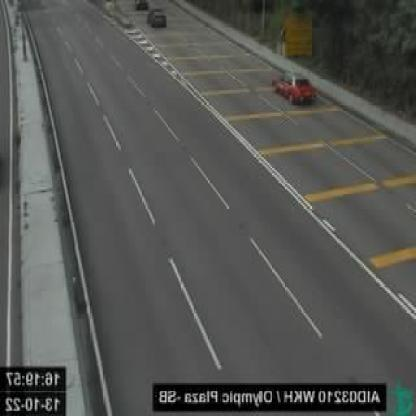Car: (274, 68, 314, 105), (146, 8, 167, 29)
